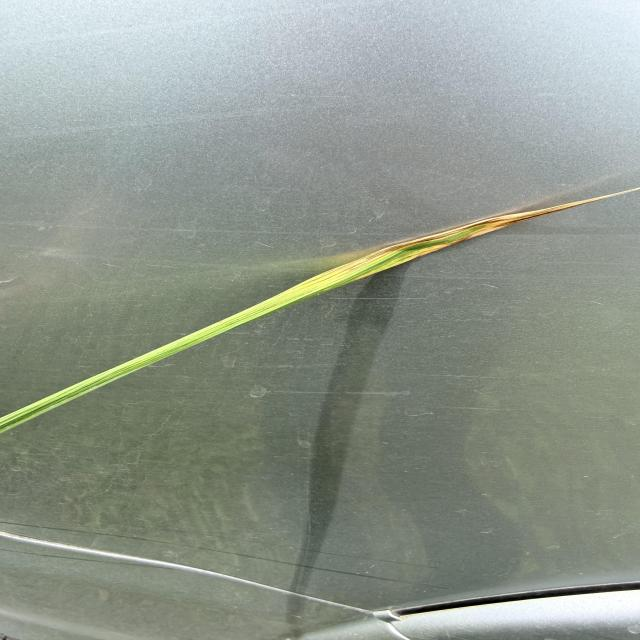Chay bia la: (326, 188, 640, 282)
